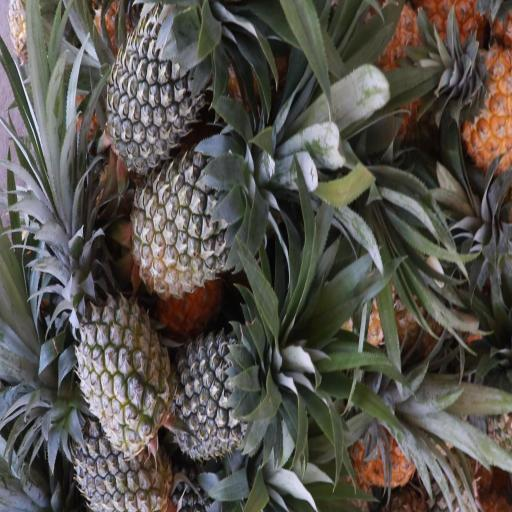------------------------------: (132, 153, 254, 286), (80, 292, 169, 444)
Pineapple - v8 v1: (451, 46, 512, 162)
